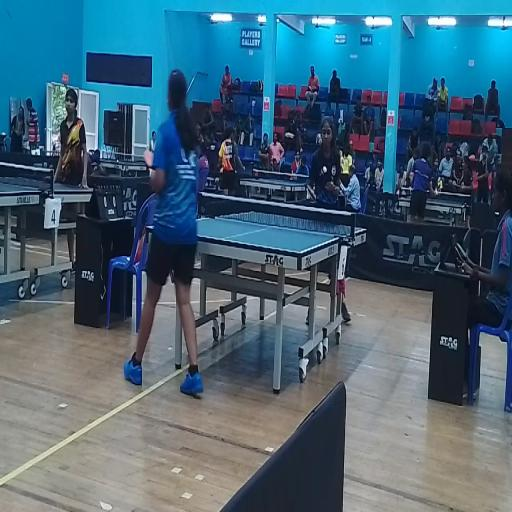ball: (324, 167, 328, 173)
